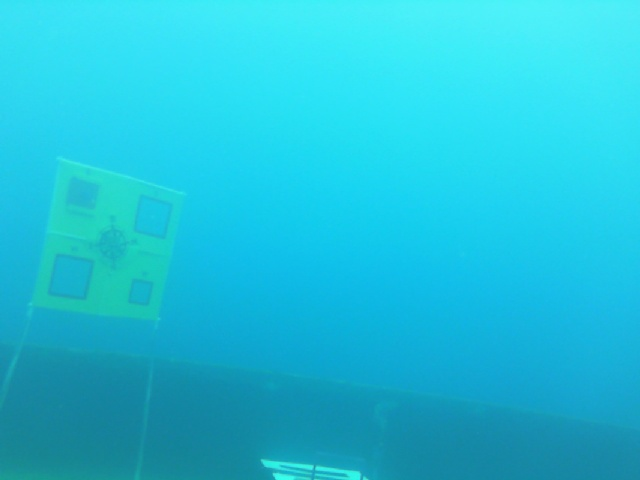torpedo_cover: (63, 178, 105, 215)
torpedo_hole: (46, 256, 96, 300), (128, 196, 174, 243), (62, 178, 106, 214), (128, 280, 159, 308)
torpedo_target: (22, 153, 185, 326)
